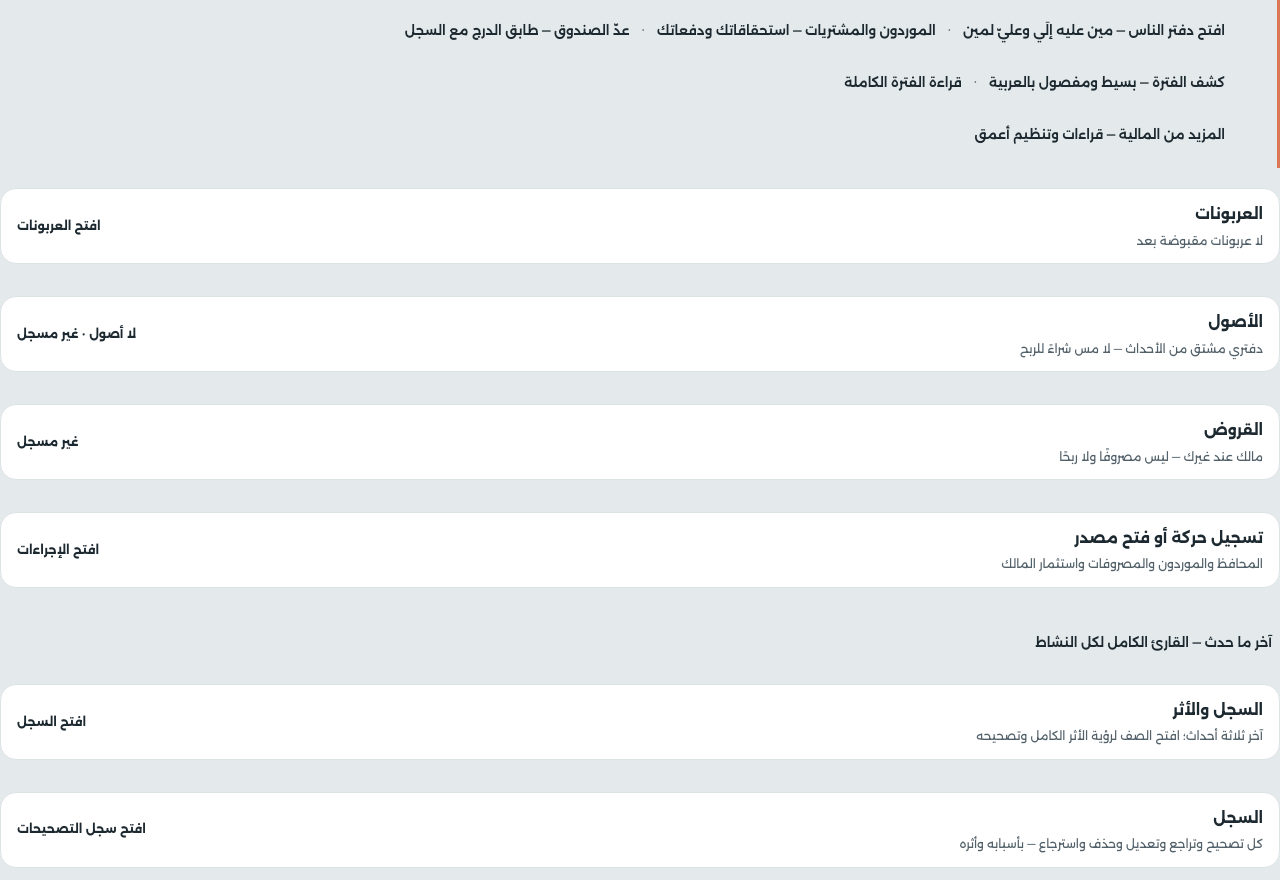
U-001 older events stay reachable from the finance record surface › caps the default list at the latest three, then reveals every older event with its correction actions
(page scrolled)
Click the heading that starts with "السجل والأثر": (1218, 709) top-left (0, 684), bottom-right (1279, 760)
(page scrolled)
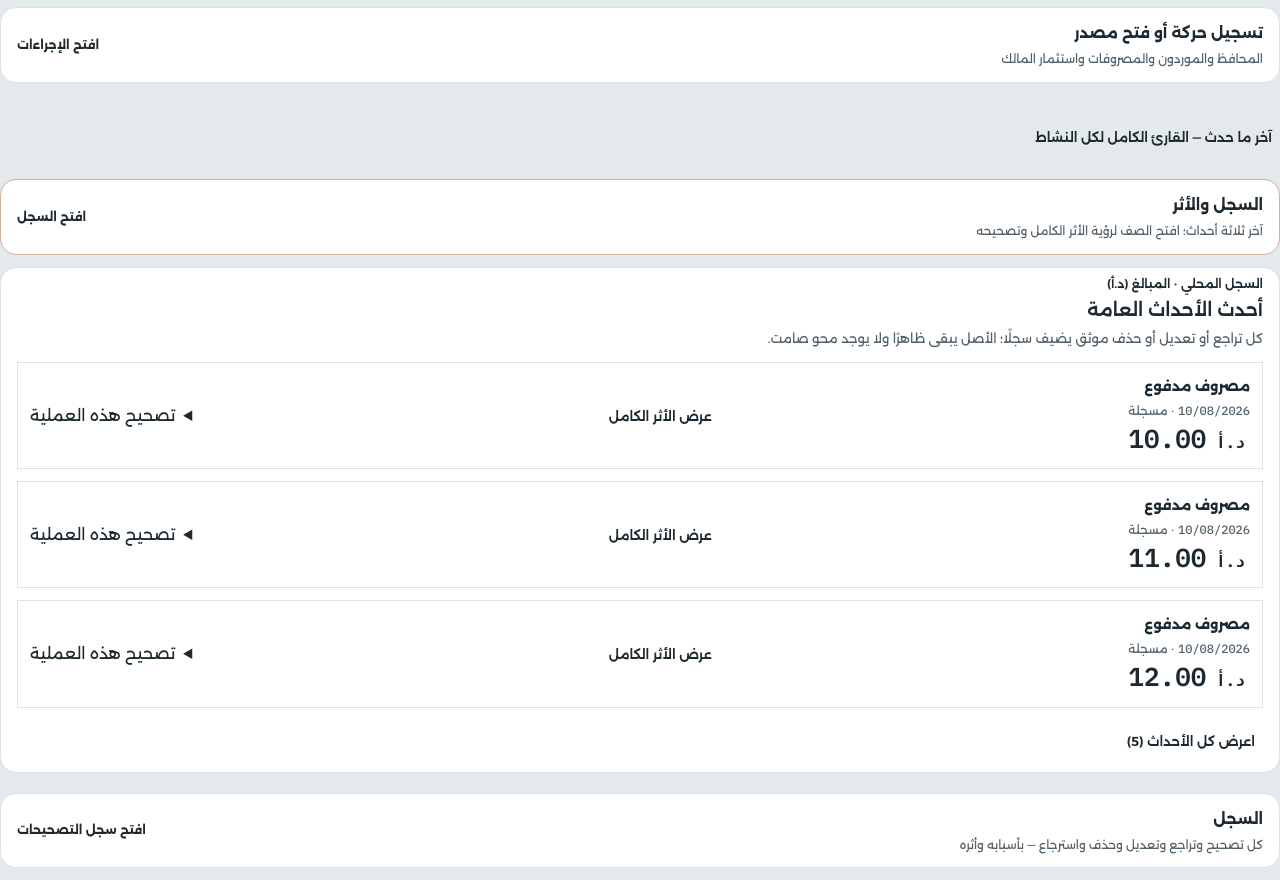
expect the heading "أحدث الأحداث العامة" is shown: met, box top-left (1087, 298), bottom-right (1263, 320)
Click the button "اعرض كل الأحداث (5)": (1191, 742) top-left (1119, 720), bottom-right (1263, 764)
(page scrolled)
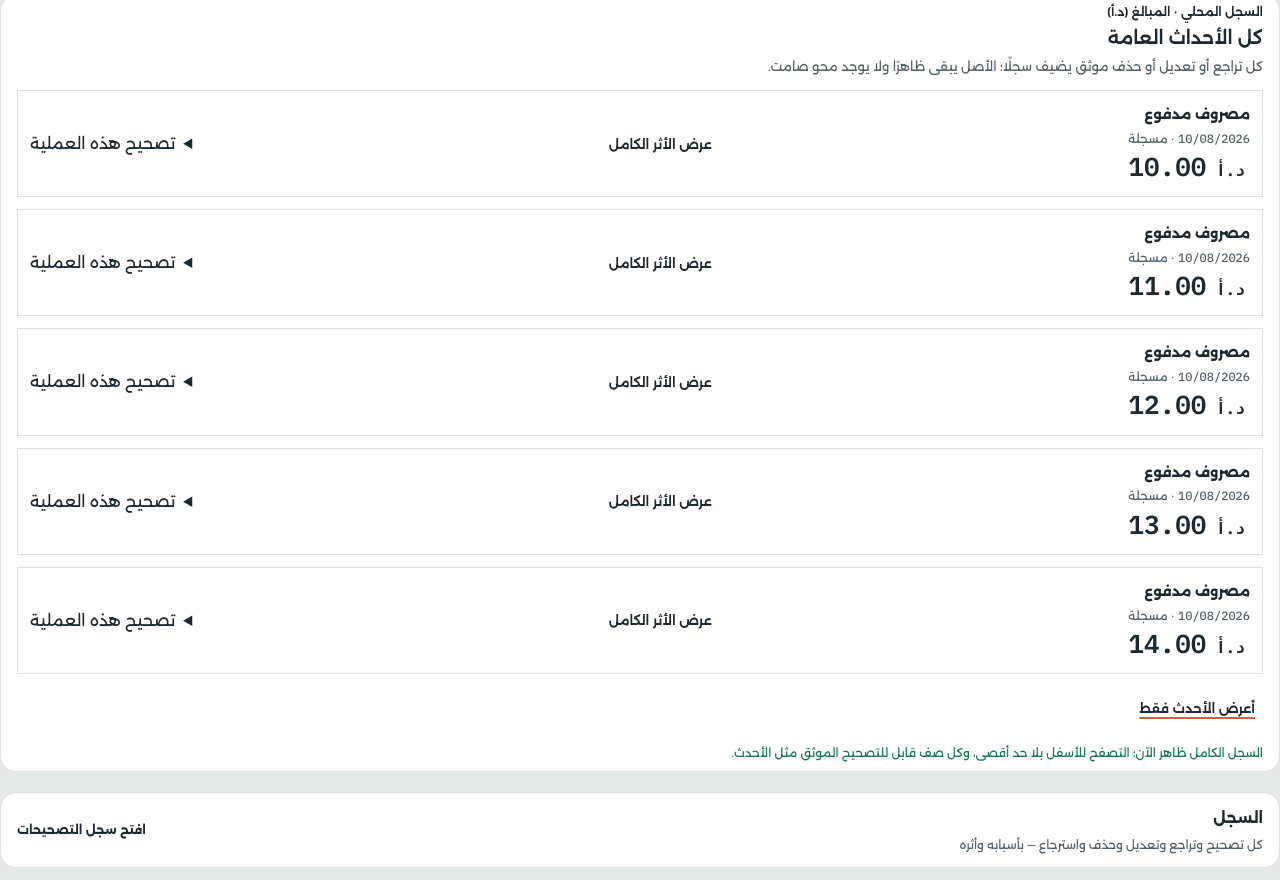
expect the element with class "micro-finance-event" that starts with "مصروف مدفوع" is shown: met, box top-left (17, 90), bottom-right (1263, 197)
expect the heading "كل الأحداث العامة" is shown: met, box top-left (1108, 26), bottom-right (1263, 48)
Click the button "أعرض الأحدث فقط": (1197, 708) top-left (1131, 686), bottom-right (1263, 730)
(page scrolled)
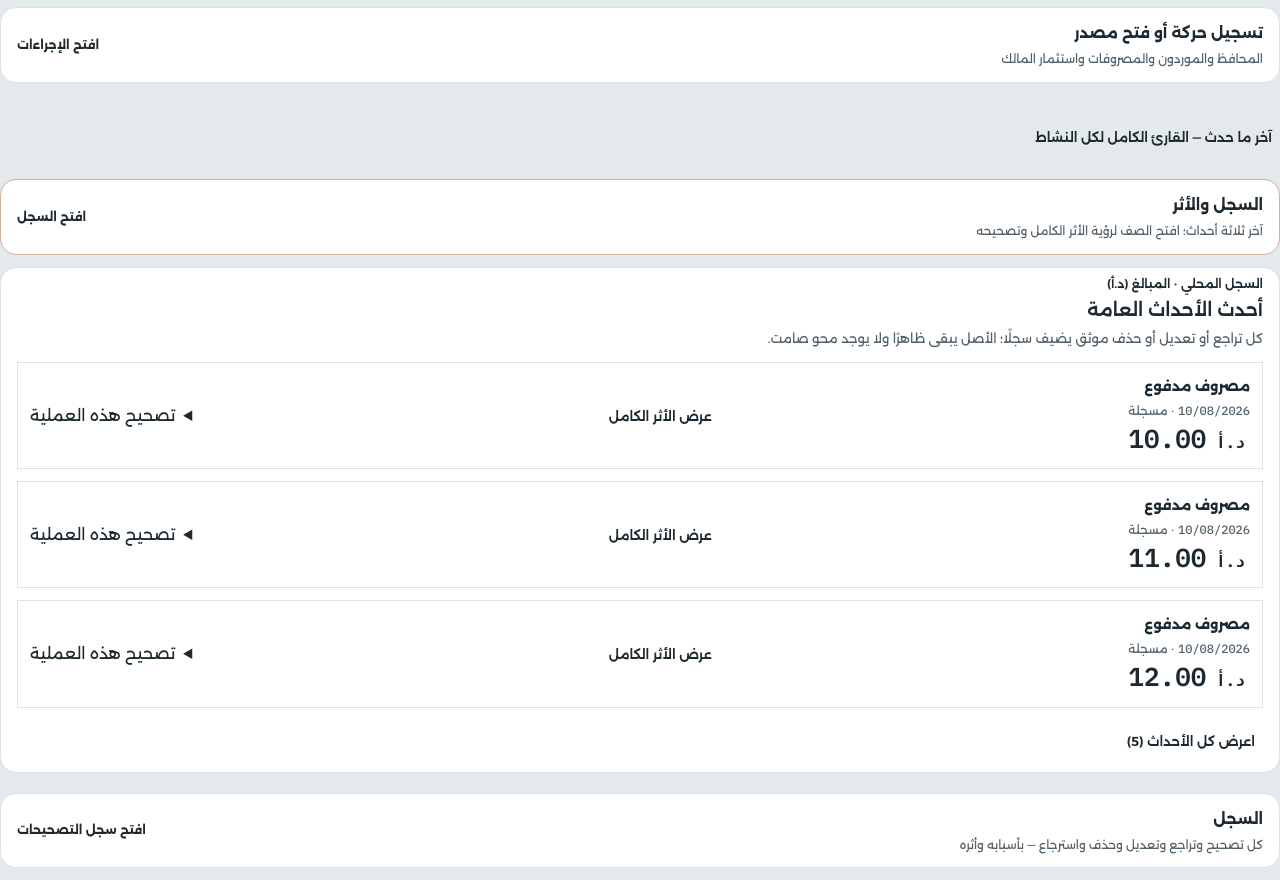
expect the heading "أحدث الأحداث العامة" is shown: met, box top-left (1087, 298), bottom-right (1263, 320)
